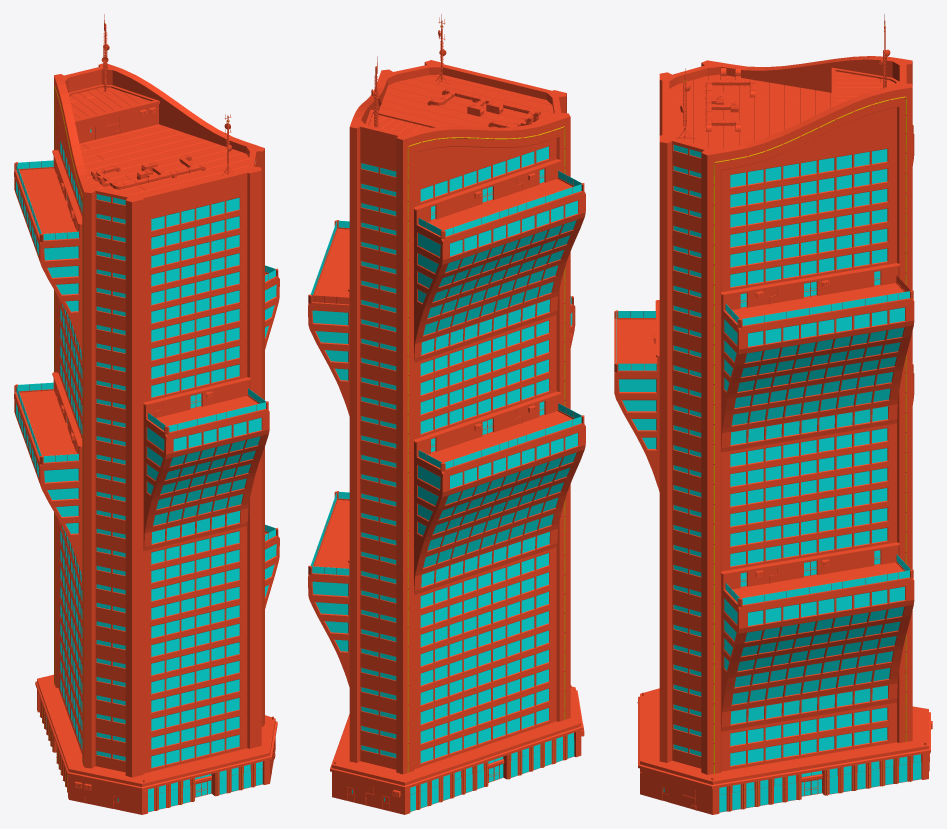
File: SM_Skyscraper_E_City.fbx
3 renders of one model, left to right at view 1: azimuth 30°, elevation 25°; view 2: azimuth 150°, elevation 25°; view 3: azimuth 270°, elevation 25°, orthographic. The views are drawn at different scales.
Parts seen in each view (by area): view 1: SM_Skyscraper_E_City; view 2: SM_Skyscraper_E_City; view 3: SM_Skyscraper_E_City.
Boxes of the visible parts, x1,y1,x2,y2 form: SM_Skyscraper_E_City: (14,14,279,814); SM_Skyscraper_E_City: (308,14,585,814); SM_Skyscraper_E_City: (614,14,932,814).
Size of the model in its own units: 40.63 by 113 by 43.44.
